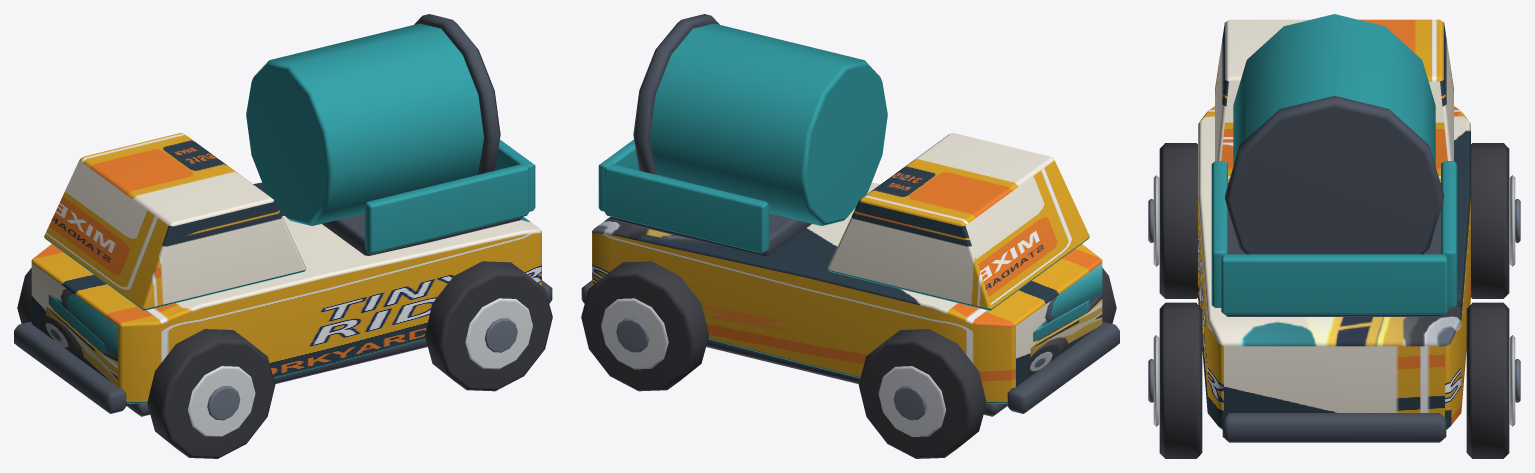
3 renders of one model, left to right at view 1: azimuth 30°, elevation 25°; view 2: azimuth 150°, elevation 25°; view 3: azimuth 270°, elevation 25°, orthographic. The views are drawn at different scales.
Visible parts, largest first — view 1: WY-02_connected_shell, large mixing drum, WY-02_cabin, Tire, Tire.002, cargo side, front bumper, rear drum collar, Rim.002, Rim, cargo floor, underbody (+4 smaller); view 2: WY-02_connected_shell, large mixing drum, WY-02_cabin, Tire.001, Tire.003, cargo side.001, front bumper, rear drum collar, Rim.003, Rim.001, cargo floor, underbody (+4 smaller); view 3: WY-02_connected_shell, rear drum collar, large mixing drum, cargo tail, WY-02_cabin, Tire.002, Tire.003, rear bumper, Tire, Tire.001, cargo side, cargo side.001 (+5 smaller).
Part boxes in pixels (x1,y1,x2,y2): WY-02_connected_shell: [31, 182, 541, 403]; large mixing drum: [246, 23, 483, 225]; WY-02_cabin: [44, 133, 306, 310]; Tire: [147, 329, 275, 458]; Tire.002: [425, 261, 552, 391]; cargo side: [365, 164, 528, 253]; front bumper: [14, 321, 126, 413]; rear drum collar: [414, 14, 500, 174]; Rim.002: [465, 298, 532, 369]; Rim: [188, 366, 255, 436]; cargo floor: [322, 213, 522, 255]; underbody: [127, 339, 427, 416]; WY-02_connected_shell: [592, 182, 1102, 403]; large mixing drum: [650, 23, 887, 225]; WY-02_cabin: [827, 133, 1089, 310]; Tire.001: [858, 329, 986, 458]; Tire.003: [581, 261, 708, 391]; cargo side.001: [605, 164, 768, 253]; front bumper: [1007, 321, 1119, 413]; rear drum collar: [633, 14, 719, 174]; Rim.003: [601, 298, 668, 369]; Rim.001: [878, 366, 945, 436]; cargo floor: [611, 213, 811, 255]; underbody: [706, 339, 1006, 416]; WY-02_connected_shell: [1198, 106, 1470, 429]; rear drum collar: [1225, 96, 1443, 254]; large mixing drum: [1233, 14, 1435, 165]; cargo tail: [1221, 254, 1447, 314]; WY-02_cabin: [1215, 19, 1453, 183]; Tire.002: [1159, 302, 1202, 458]; Tire.003: [1466, 302, 1509, 458]; rear bumper: [1222, 413, 1446, 442]; Tire: [1159, 143, 1197, 298]; Tire.001: [1471, 143, 1509, 298]; cargo side: [1211, 161, 1227, 307]; cargo side.001: [1441, 161, 1457, 307].
Bounding box in the file's own units: 374 × 249 × 228.
